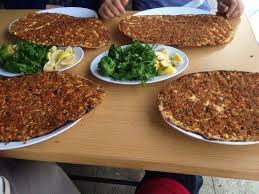lahmacun: (0, 72, 103, 141), (158, 71, 258, 140), (98, 41, 157, 81), (0, 40, 49, 73)
